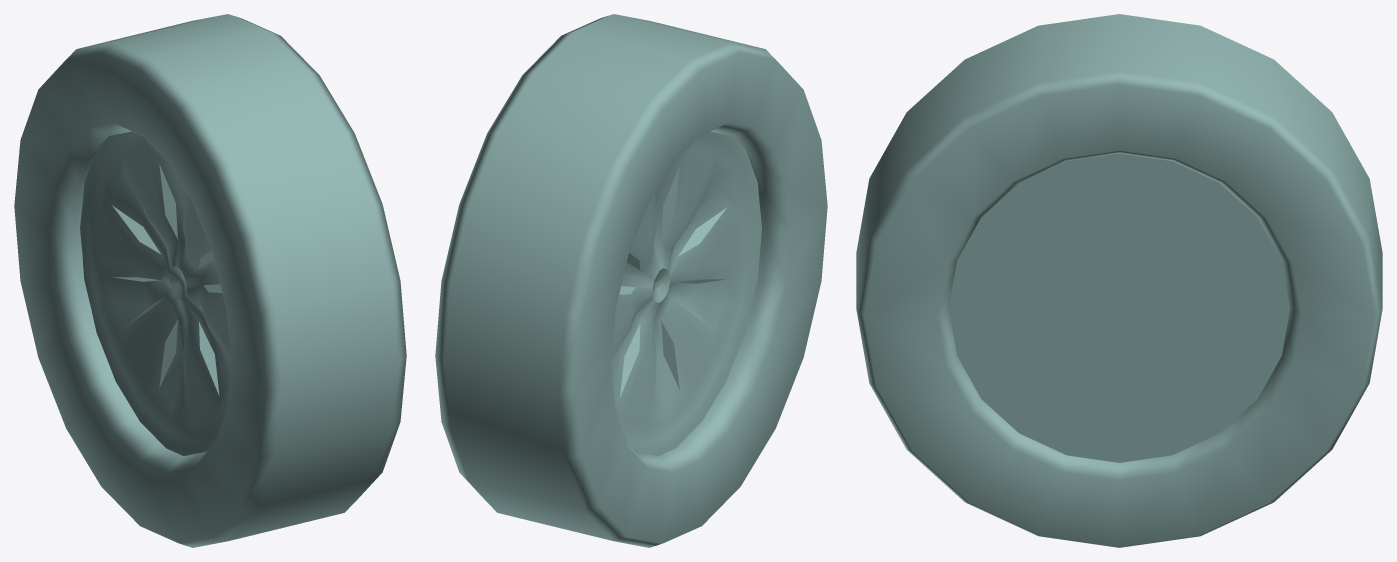
The model's file is Car_Wheel_02.fbx.
The picture shows the model from 3 angles, left to right: view 1: azimuth 30°, elevation 25°; view 2: azimuth 150°, elevation 25°; view 3: azimuth 270°, elevation 25°; orthographic projection.
Visible parts, largest first — view 1: Car_Wheel_02; view 2: Car_Wheel_02; view 3: Car_Wheel_02.
Boxes of the visible parts, bbox=[...] form: Car_Wheel_02: bbox=[14, 14, 406, 547]; Car_Wheel_02: bbox=[435, 14, 827, 547]; Car_Wheel_02: bbox=[856, 14, 1382, 547].
Size of the model in its own units: 24.16 by 77.11 by 77.11.
